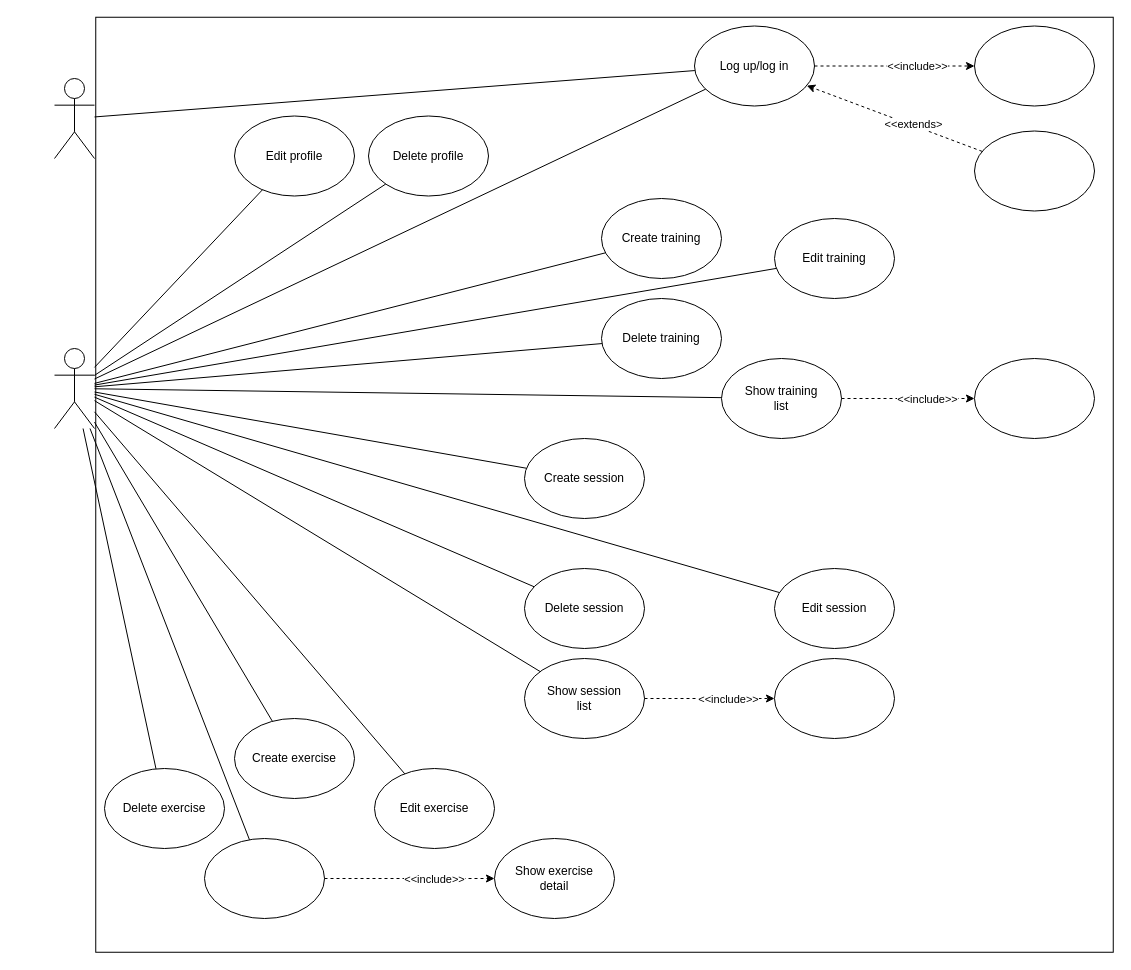
Image size: 1131x970. Some labels were removed from this diagram. Here are the shapes that lost their labels. From the top down, the centre of each, then its label:
pixel 1034 65: Verify credentials
pixel 74 118: Usuario no registrado
pixel 1034 170: Show error message
pixel 74 388: Usuario registrado
pixel 1034 398: Show training detail
pixel 834 698: Show session detail
pixel 264 878: Show exercise list
